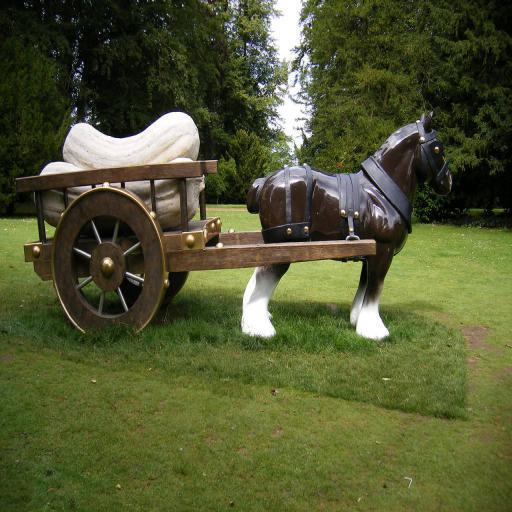horse: (241, 107, 453, 341)
